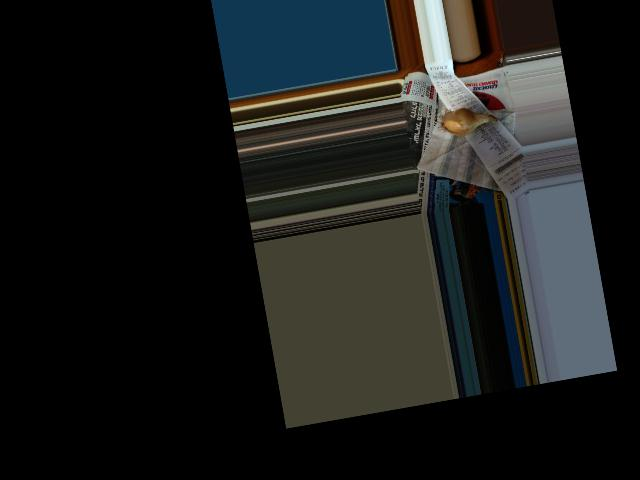onion: (440, 106, 492, 138)
